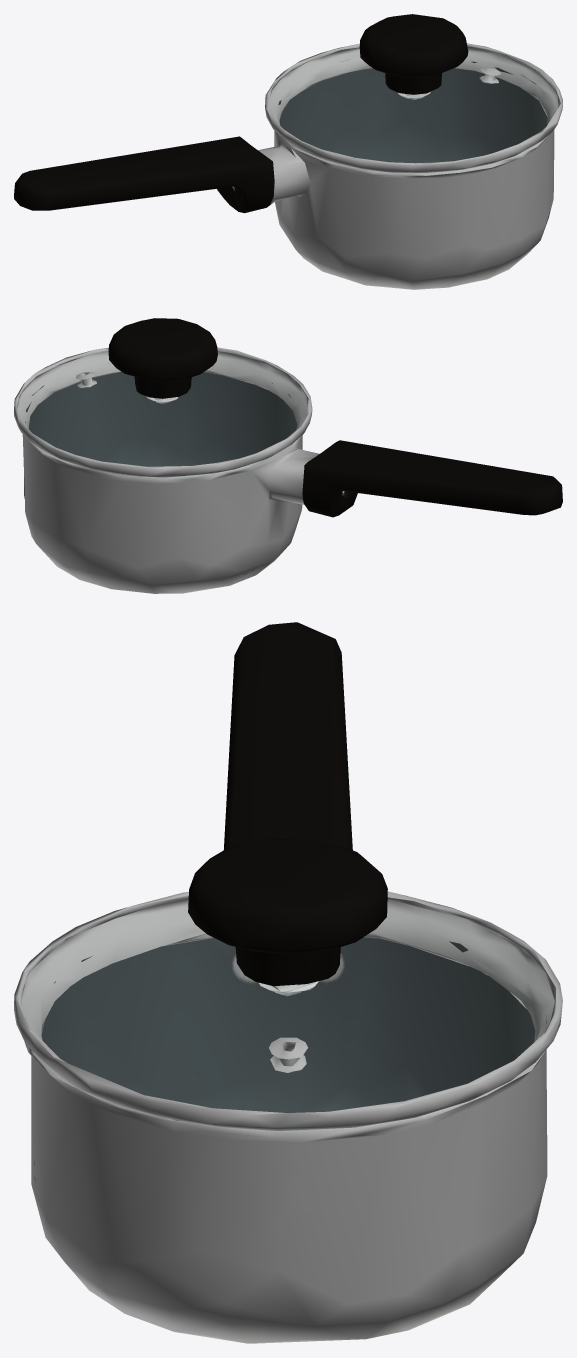
File: Middagsmat60463714-scene-512.glb
3 views of the same model, one above another, from view 1: azimuth 30°, elevation 25°; view 2: azimuth 150°, elevation 25°; view 3: azimuth 270°, elevation 25° (orthographic). The views are drawn at different scales.
Visible parts, largest first — view 1: ASY_ART_60463714_S01_NV01, ASY_LPT01_60463714_S01_NV01; view 2: ASY_ART_60463714_S01_NV01, ASY_LPT01_60463714_S01_NV01; view 3: ASY_ART_60463714_S01_NV01, ASY_LPT01_60463714_S01_NV01.
Part boxes in pixels (<box>): ASY_ART_60463714_S01_NV01: <box>14,59,556,289</box>; ASY_LPT01_60463714_S01_NV01: <box>265,14,562,172</box>; ASY_ART_60463714_S01_NV01: <box>22,363,562,593</box>; ASY_LPT01_60463714_S01_NV01: <box>14,318,312,477</box>; ASY_ART_60463714_S01_NV01: <box>24,622,547,1343</box>; ASY_LPT01_60463714_S01_NV01: <box>14,838,562,1130</box>.
Bounding box in the file's own units: 0.3038 × 0.1151 × 0.1497.
Materials: 3 (2 with a texture image).
